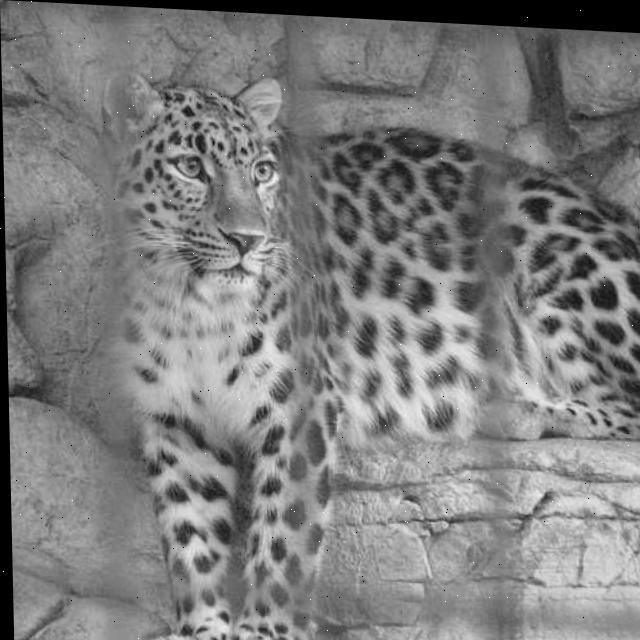Leopard: (65, 64, 522, 582)
